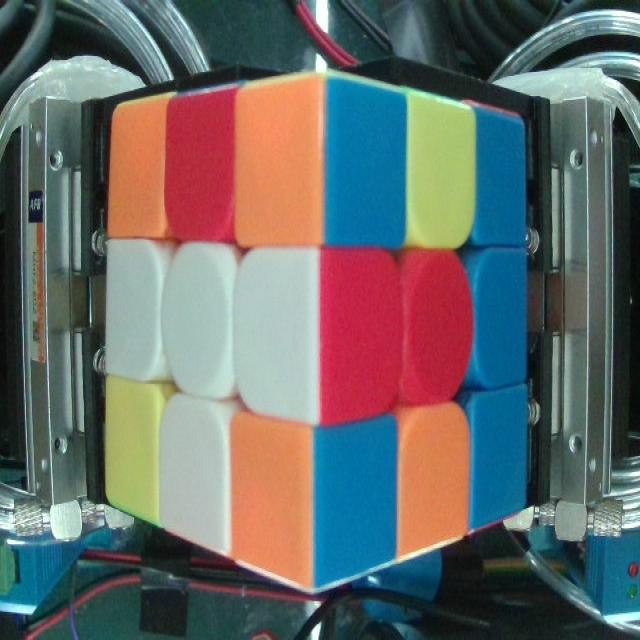b: (323, 79, 408, 246), (317, 423, 399, 583), (469, 390, 528, 520), (474, 109, 528, 245), (474, 252, 528, 386)
o: (230, 414, 318, 588), (234, 79, 324, 249), (400, 408, 472, 552), (107, 97, 167, 242)
r: (321, 249, 401, 420), (405, 248, 476, 405), (167, 88, 236, 241)
w: (234, 248, 321, 419), (165, 242, 233, 398), (162, 402, 230, 554), (104, 245, 162, 379)
y: (409, 91, 474, 244), (106, 378, 159, 526)
